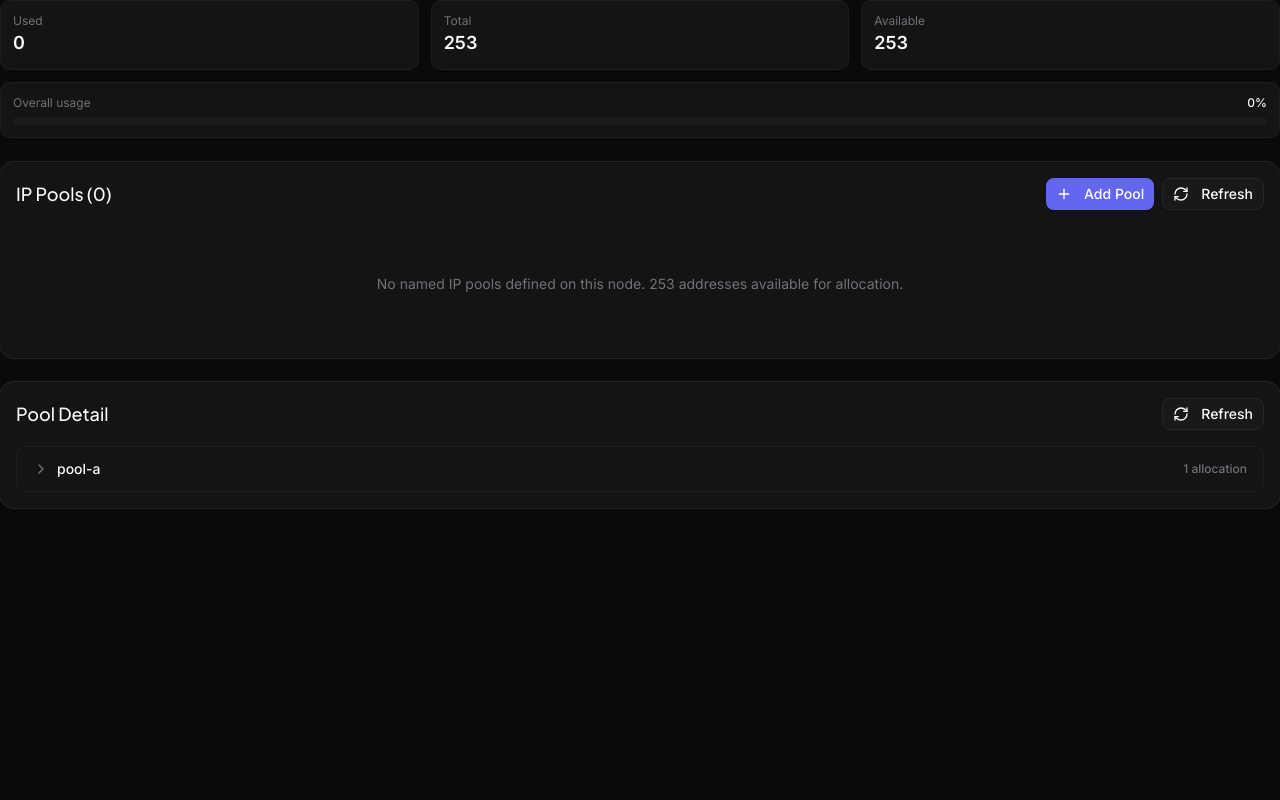
IpPoolPage pool detail › shows em-dash for missing username in detail entries
The width and height of the screenshot is (1280, 800).
Click the text "pool-a".
click(79, 469)  # box [57, 459, 100, 479]
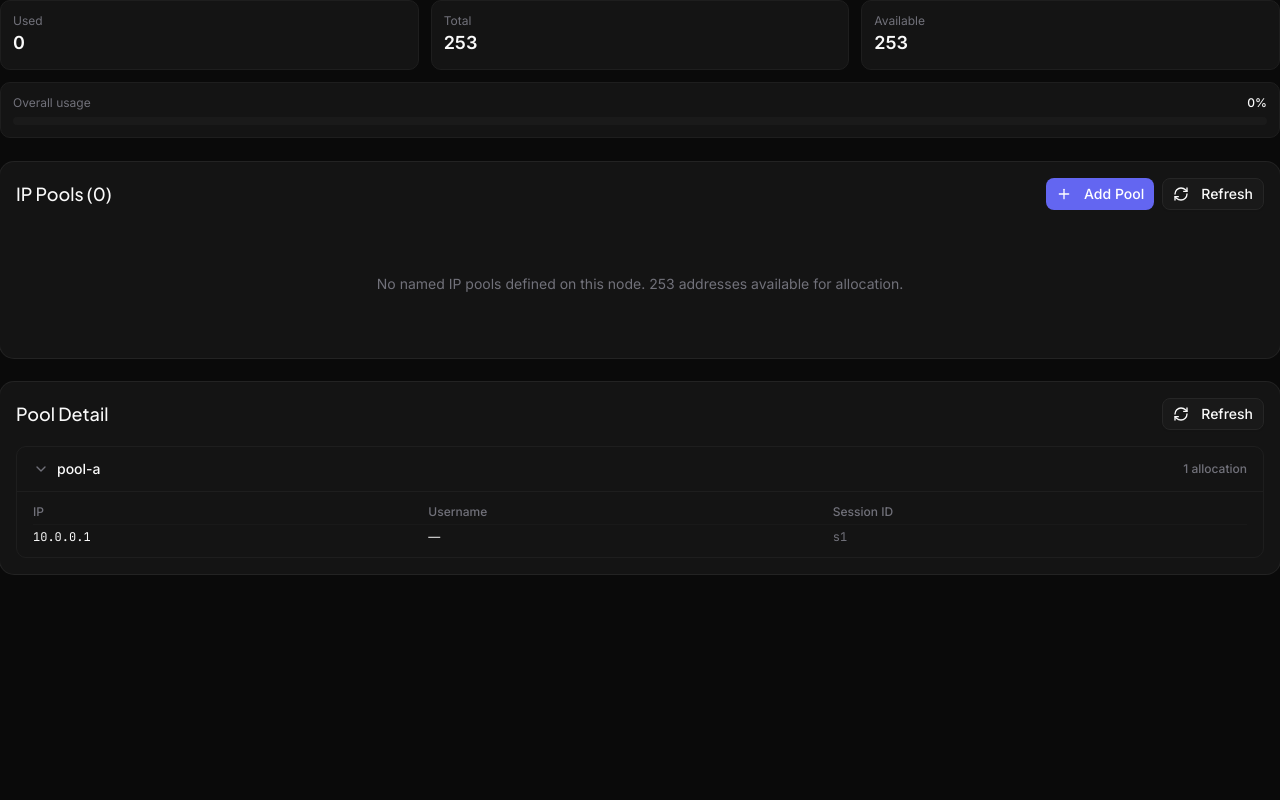
Now the text "10.0.0.1" is shown, box [33, 524, 428, 549]
Now the text "s1" is shown, box [833, 524, 1247, 549]
